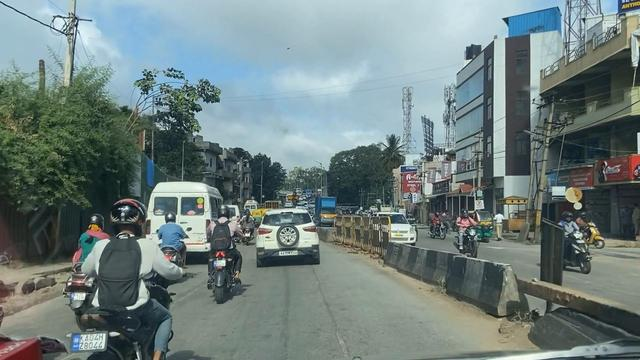LMV: (85, 193, 173, 360), (259, 211, 325, 267), (209, 203, 240, 309)
